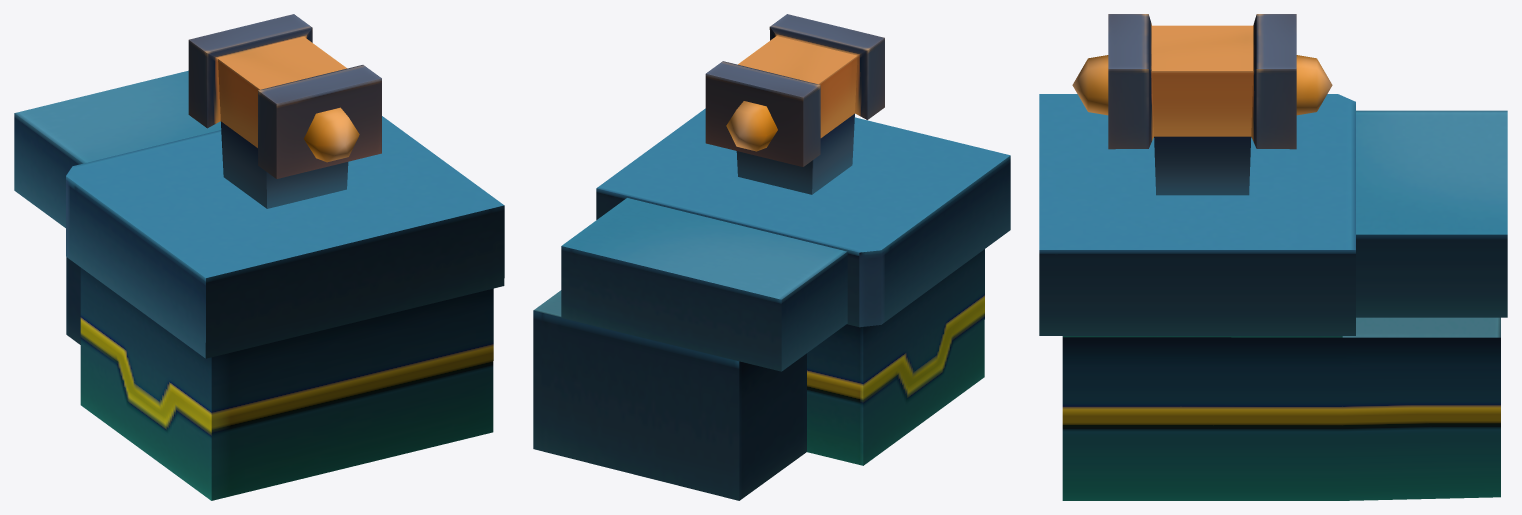
The model's file is ZhuZi_E.fbx.
The picture shows the model from 3 angles, left to right: view 1: azimuth 30°, elevation 25°; view 2: azimuth 150°, elevation 25°; view 3: azimuth 270°, elevation 25°; orthographic projection. The views are drawn at different scales.
Parts seen in each view (by area): view 1: ZhuZi_E; view 2: ZhuZi_E; view 3: ZhuZi_E.
Part boxes in pixels (left/top/right/bottom): ZhuZi_E: left=14, top=14, right=504, bottom=500; ZhuZi_E: left=533, top=14, right=1010, bottom=500; ZhuZi_E: left=1039, top=14, right=1507, bottom=500.
Bounding box in the file's own units: 0.2664 × 0.3068 × 0.3384.
Materials: 2 (2 with a texture image).
